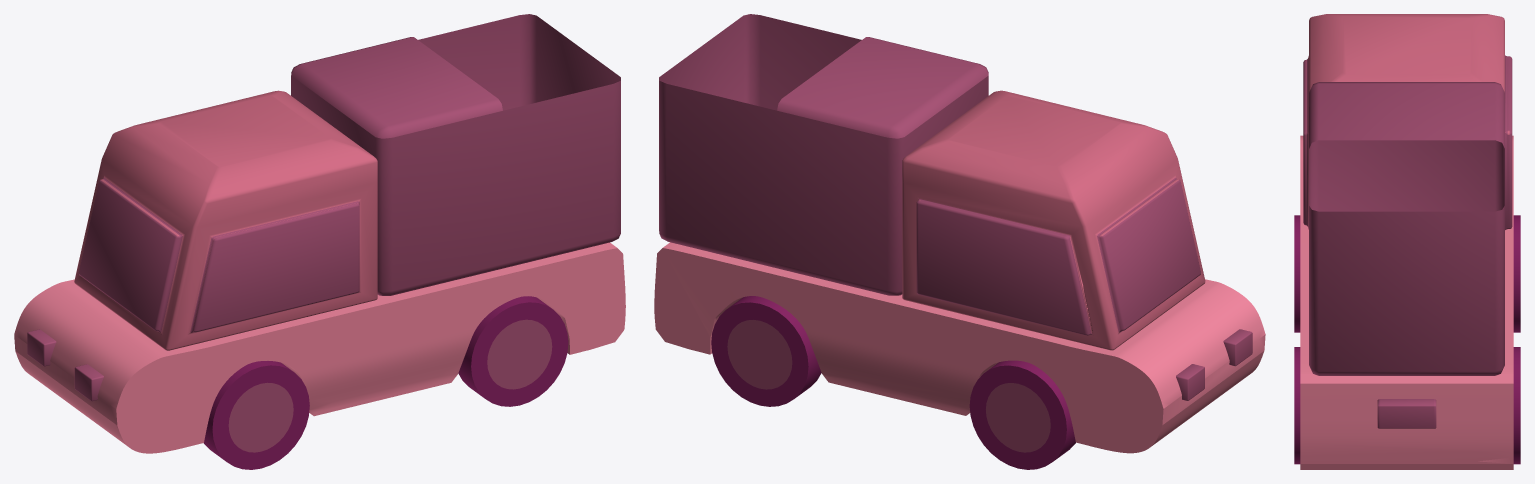
Rendered from dostawczak-otwarty.gltf.
3 renders of one model, left to right at view 1: azimuth 30°, elevation 25°; view 2: azimuth 150°, elevation 25°; view 3: azimuth 270°, elevation 25°, orthographic. The views are drawn at different scales.
Parts seen in each view (by area): view 1: Circle.007; view 2: Circle.007; view 3: Circle.007.
Boxes of the visible parts, <box> form: Circle.007: <box>14,14,625,469</box>; Circle.007: <box>654,14,1265,469</box>; Circle.007: <box>1294,14,1520,469</box>.
Size of the model in its own units: 6.48 by 3.53 by 2.31.
Materials: 5 (5 with a texture image).
